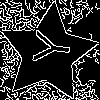Y: (23, 28, 72, 66)
